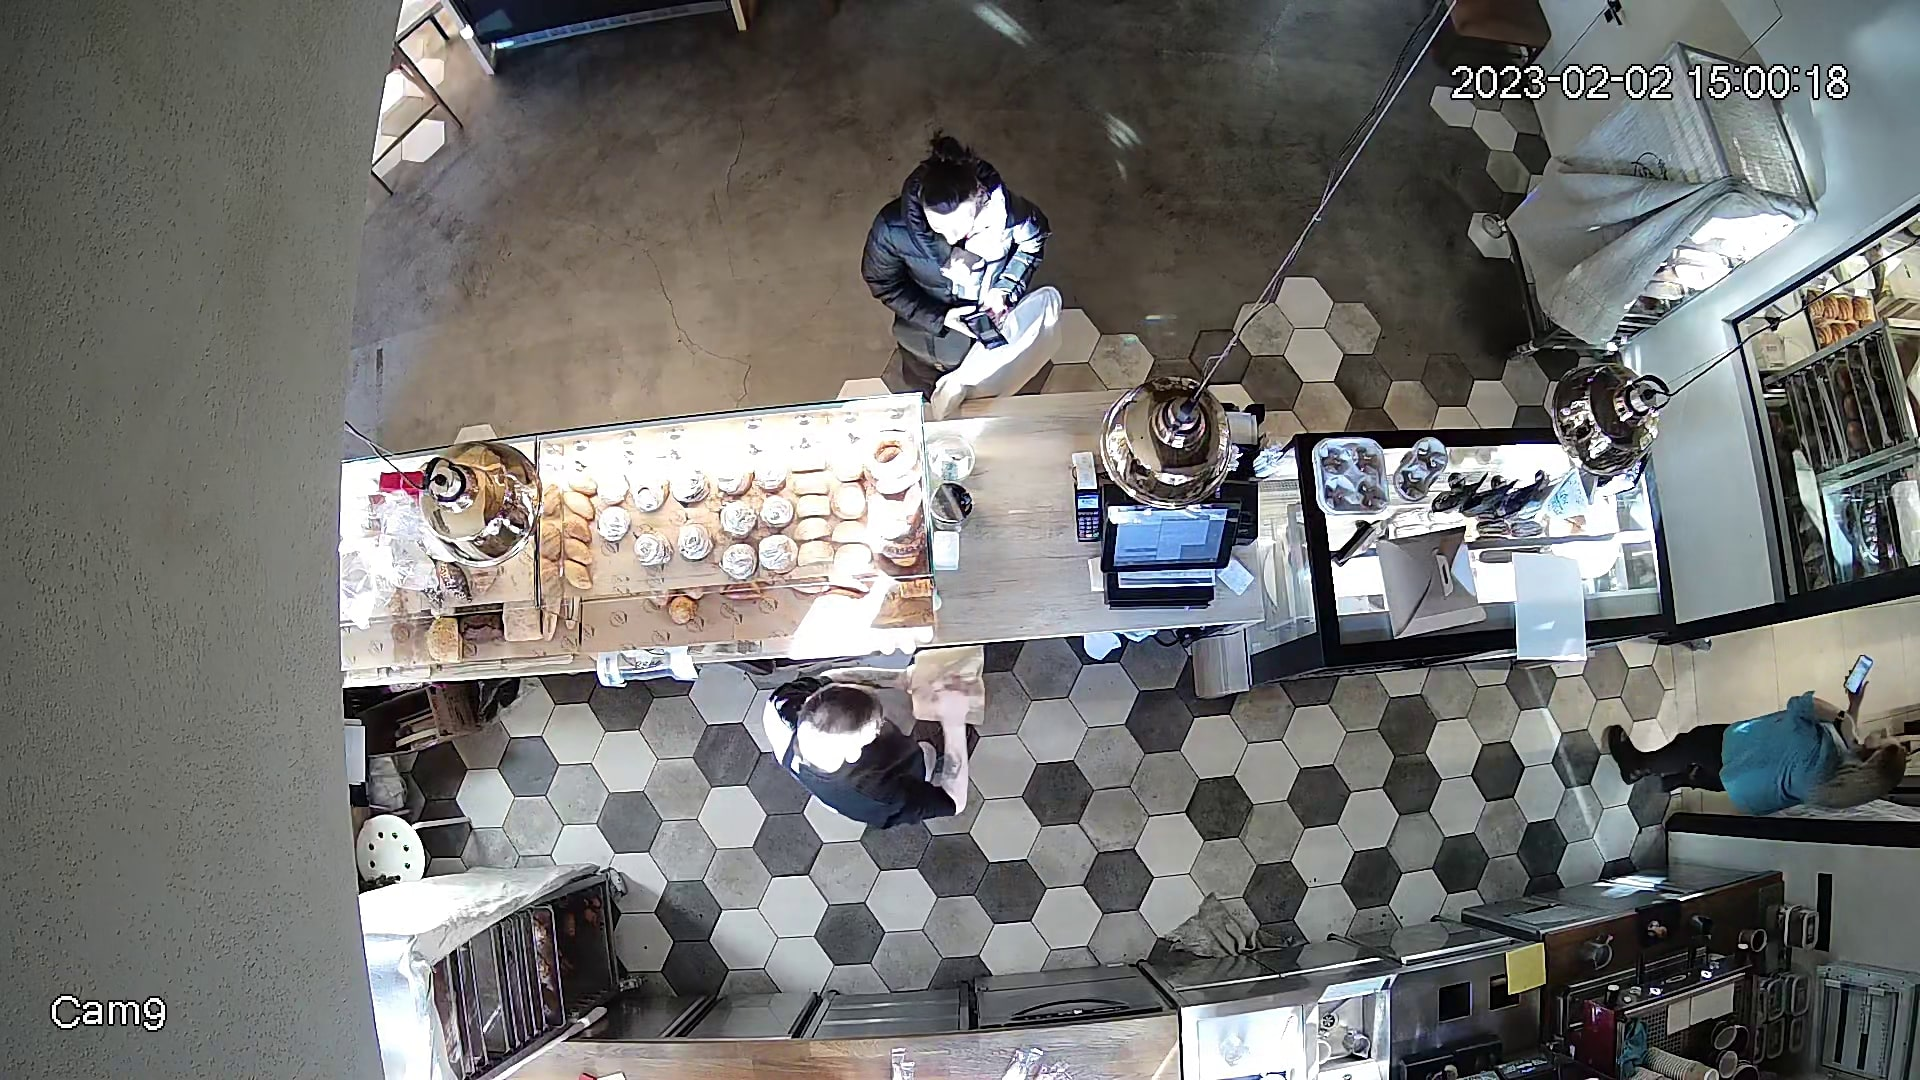barcounter: (372, 437, 1640, 660)
pack: (907, 643, 999, 730)
person: (849, 122, 1022, 383), (1626, 689, 1920, 833), (754, 669, 932, 827)
